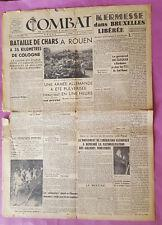paper: (2, 6, 154, 220)
